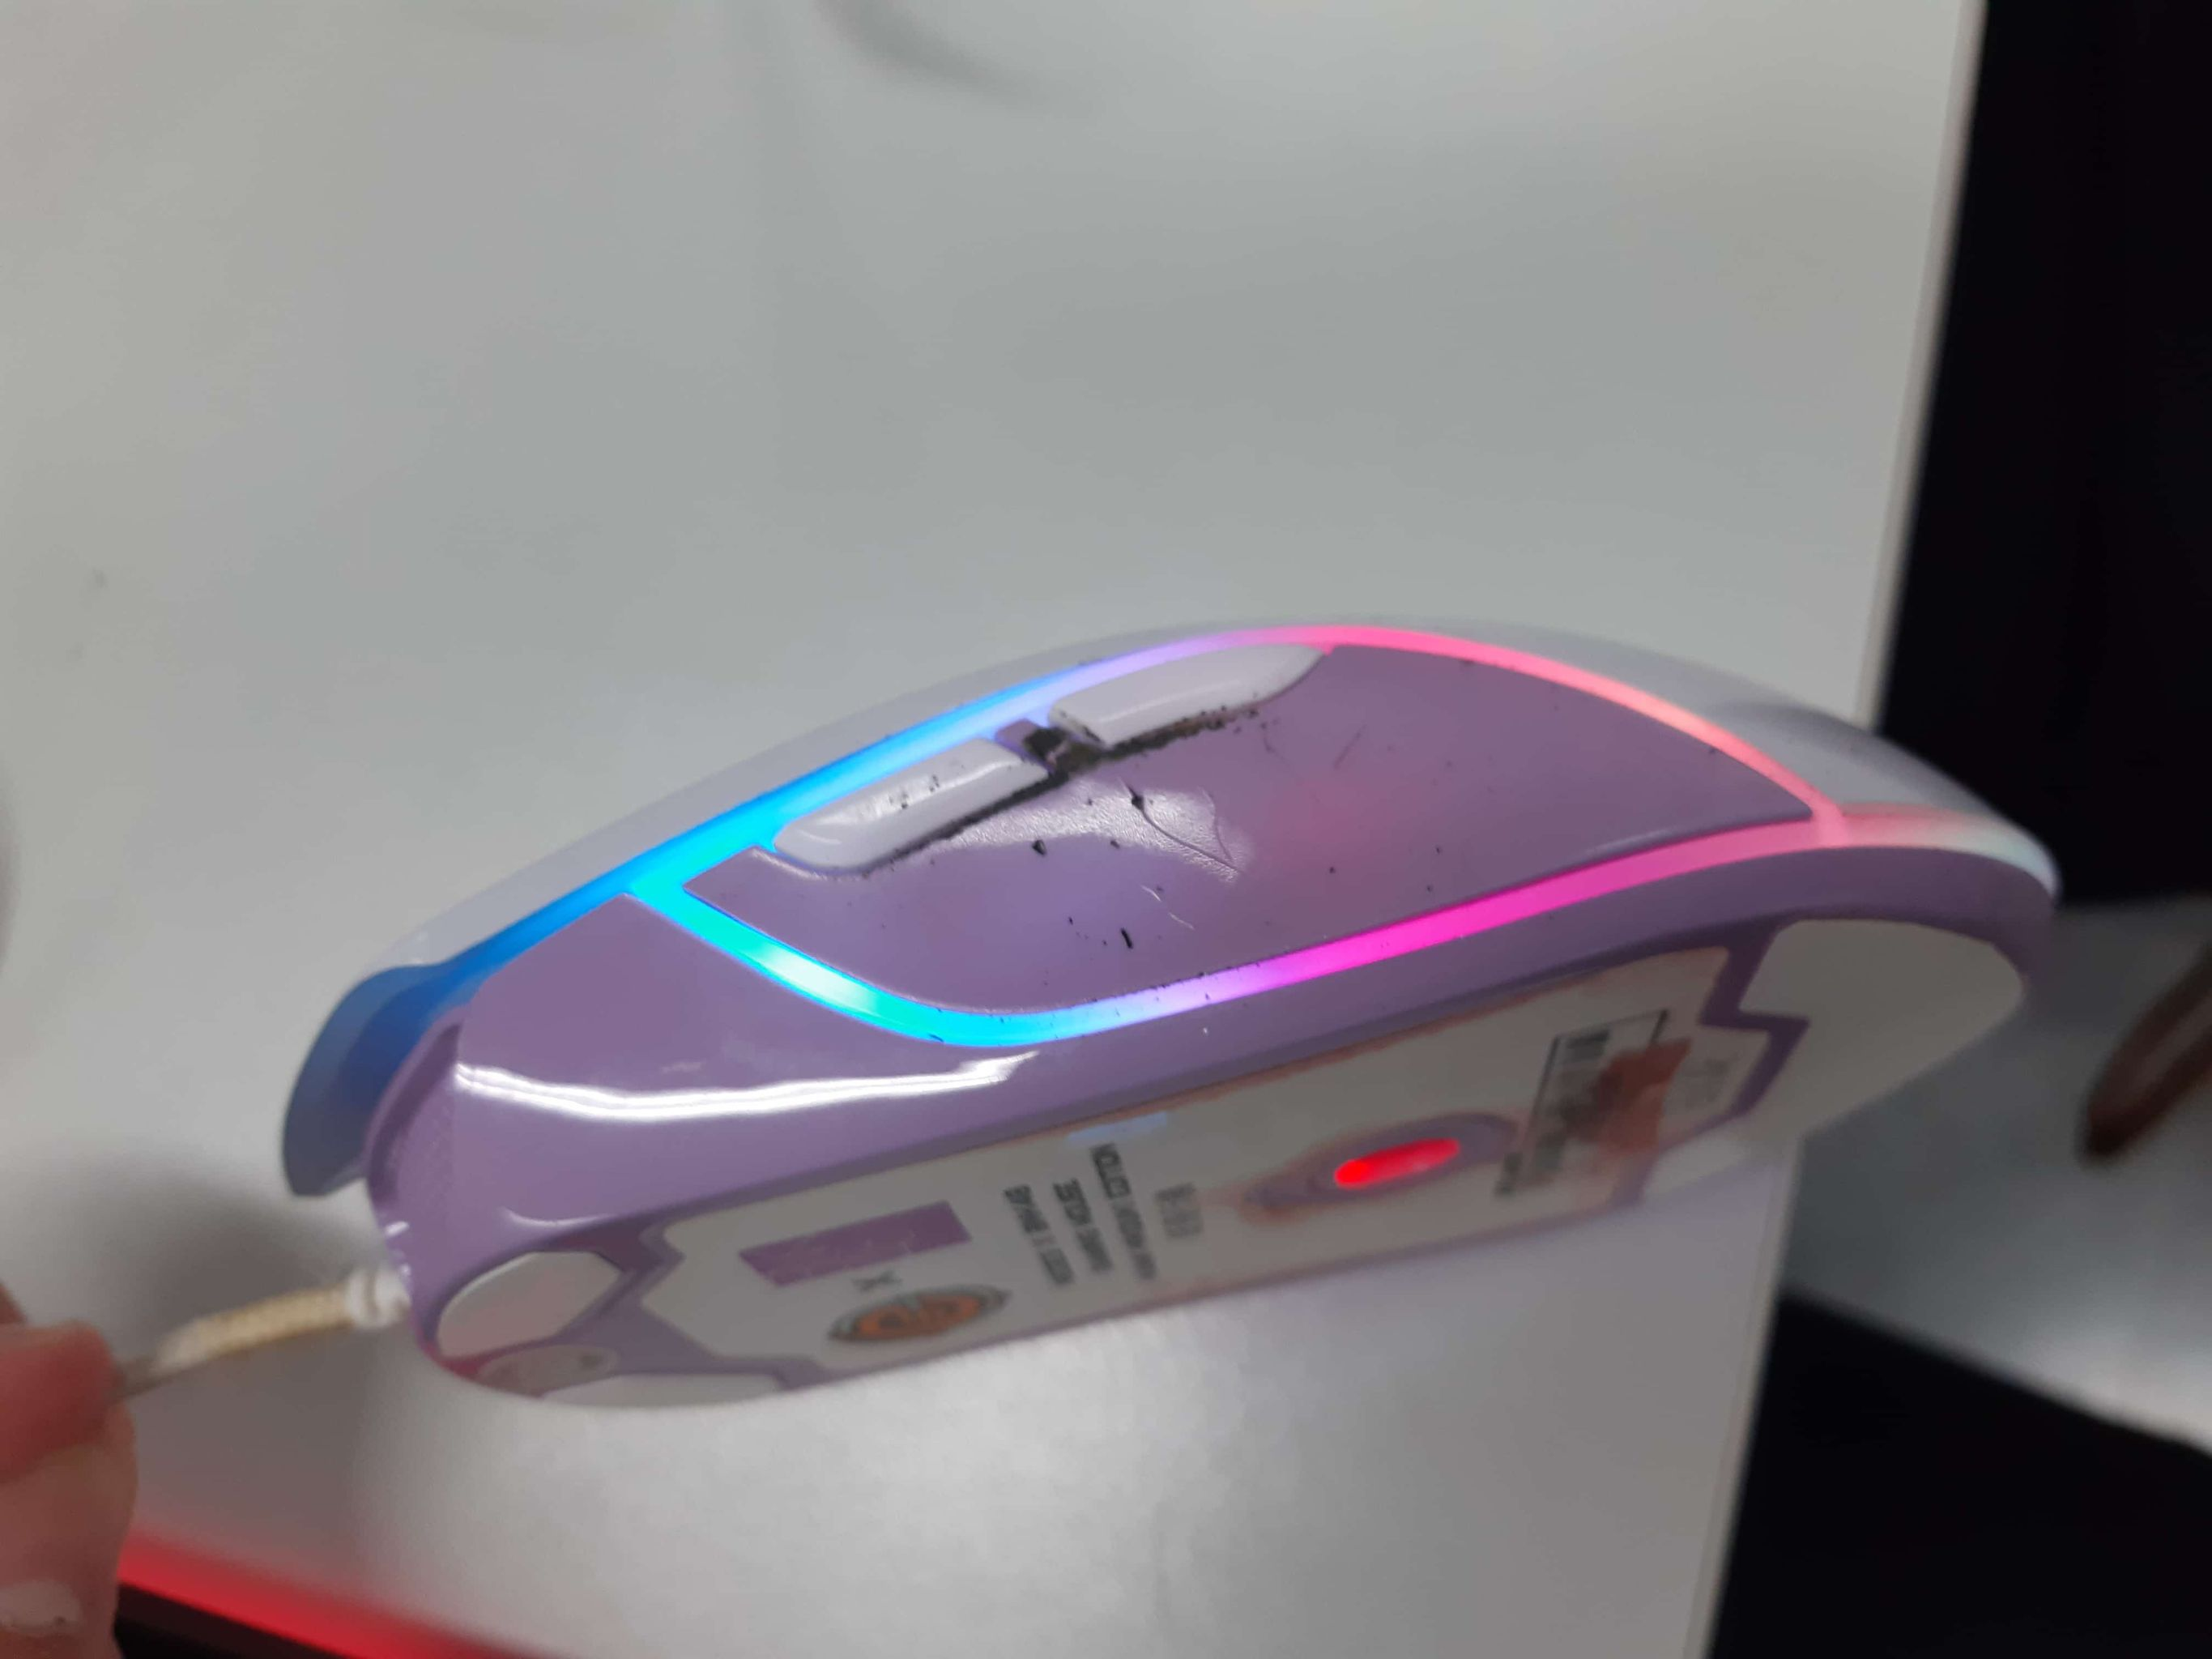mouse: (291, 615, 2078, 1412)
